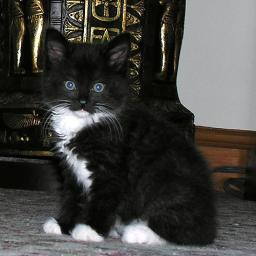catnose: (76, 97, 90, 108)
